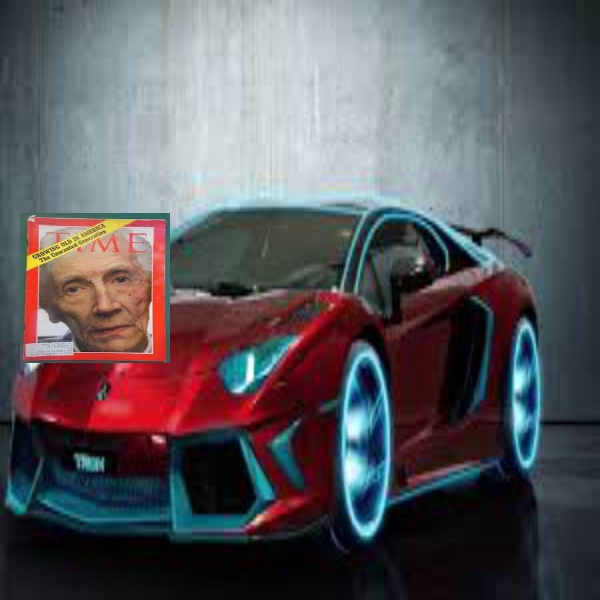time_cover: (10, 193, 169, 365)
